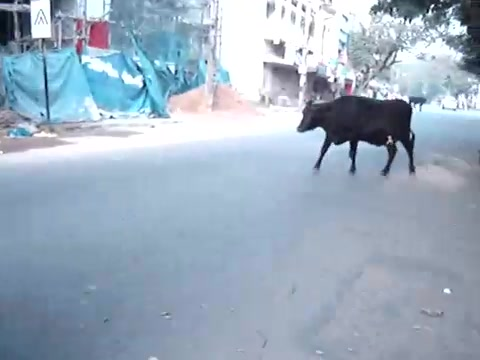cow: (299, 97, 419, 178)
